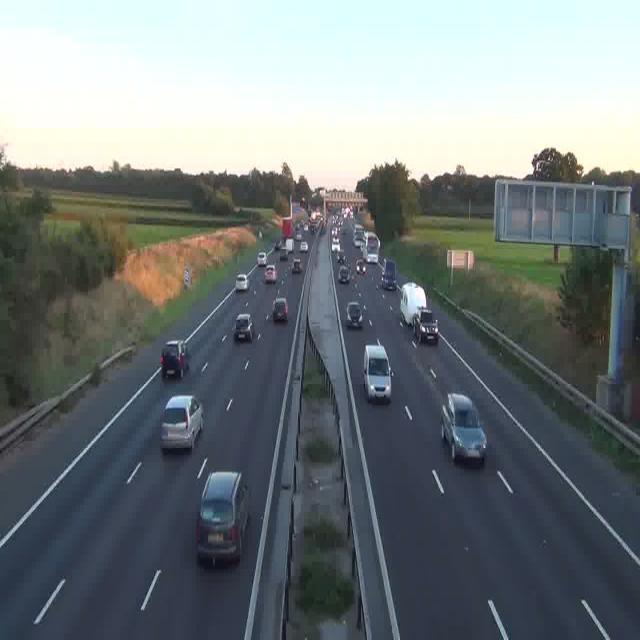bus: (364, 234, 378, 264)
car: (196, 470, 250, 564), (441, 393, 487, 464), (161, 394, 204, 450), (361, 342, 391, 403), (161, 341, 189, 378), (234, 313, 254, 340), (346, 301, 364, 330), (381, 263, 397, 290), (272, 298, 288, 321), (235, 274, 249, 292), (338, 266, 351, 284), (265, 265, 277, 282), (290, 258, 302, 274), (278, 246, 288, 262), (355, 260, 366, 274), (256, 252, 266, 266), (300, 241, 308, 252)
truck: (400, 281, 438, 344), (280, 217, 294, 242)
